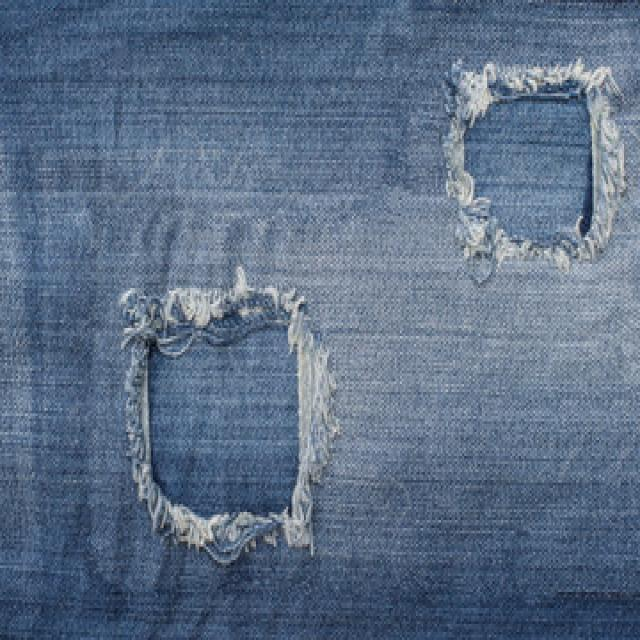Hole: (121, 275, 338, 564), (445, 60, 626, 284)
